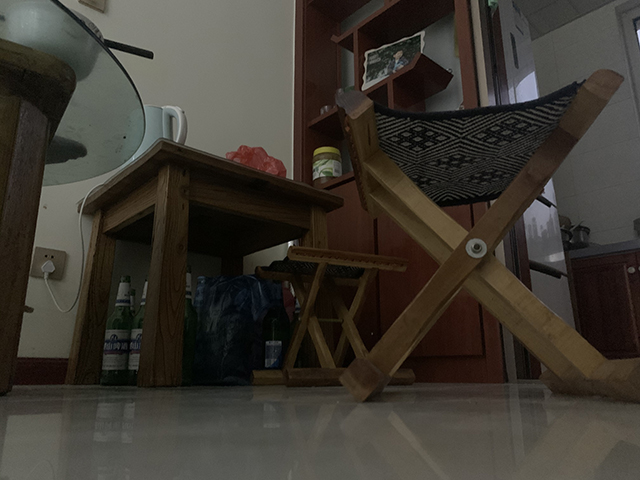stool: (340, 64, 640, 402), (247, 243, 418, 387)
table: (64, 137, 347, 391)
wire: (41, 194, 88, 314)
